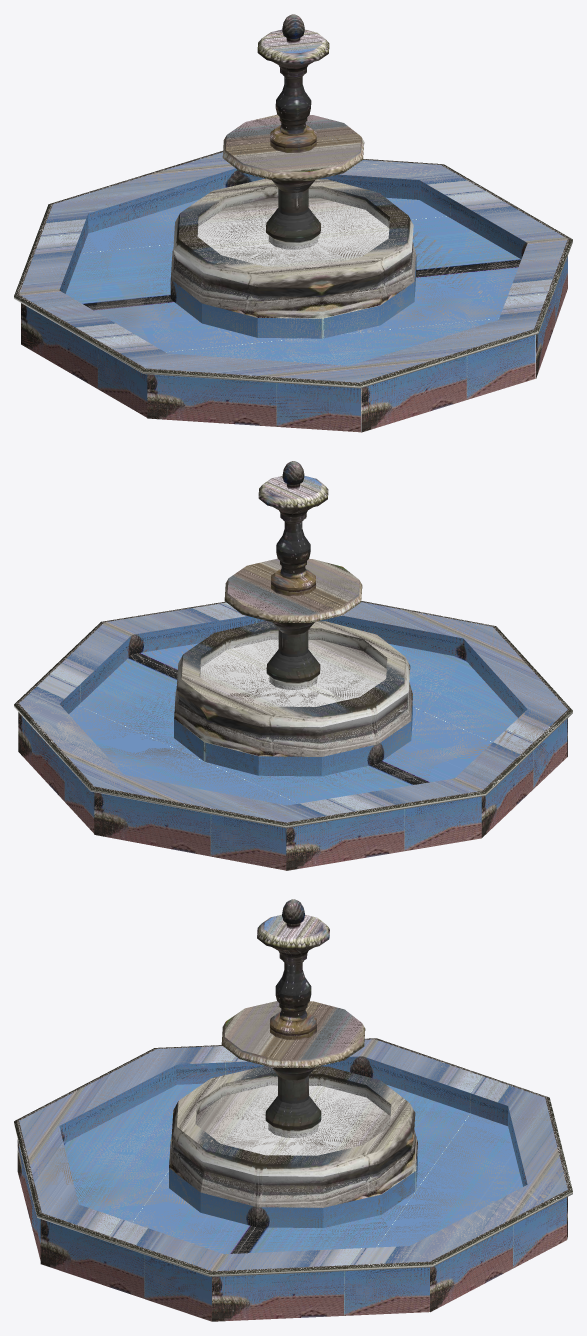
The model's file is Fountain.fbx.
3 renders of one model, top to bottom at view 1: azimuth 30°, elevation 25°; view 2: azimuth 150°, elevation 25°; view 3: azimuth 270°, elevation 25°, orthographic. The views are drawn at different scales.
Visible parts, largest first — view 1: Model, Group_1_8, Group_1_6, Group_1_7, Group_1_5; view 2: Model, Group_1_3, Group_1_4, Group_1_7, Group_1_2; view 3: Model, Group_1_1, Group_1_5, Group_1_2, Group_1_6.
Part boxes in pixels (x1,y1,x2,y2): Model: [14, 14, 572, 388]; Group_1_8: [147, 374, 360, 432]; Group_1_6: [361, 335, 535, 432]; Group_1_7: [21, 303, 147, 417]; Group_1_5: [536, 256, 567, 378]; Model: [14, 461, 572, 828]; Group_1_3: [286, 796, 481, 870]; Group_1_4: [94, 792, 286, 870]; Group_1_7: [481, 719, 567, 837]; Group_1_2: [18, 712, 94, 833]; Model: [14, 899, 572, 1276]; Group_1_1: [212, 1267, 429, 1321]; Group_1_5: [40, 1219, 211, 1321]; Group_1_2: [430, 1197, 566, 1312]; Group_1_6: [17, 1139, 40, 1260].
Size of the model in its own units: 5.08 by 3.07 by 5.08.
